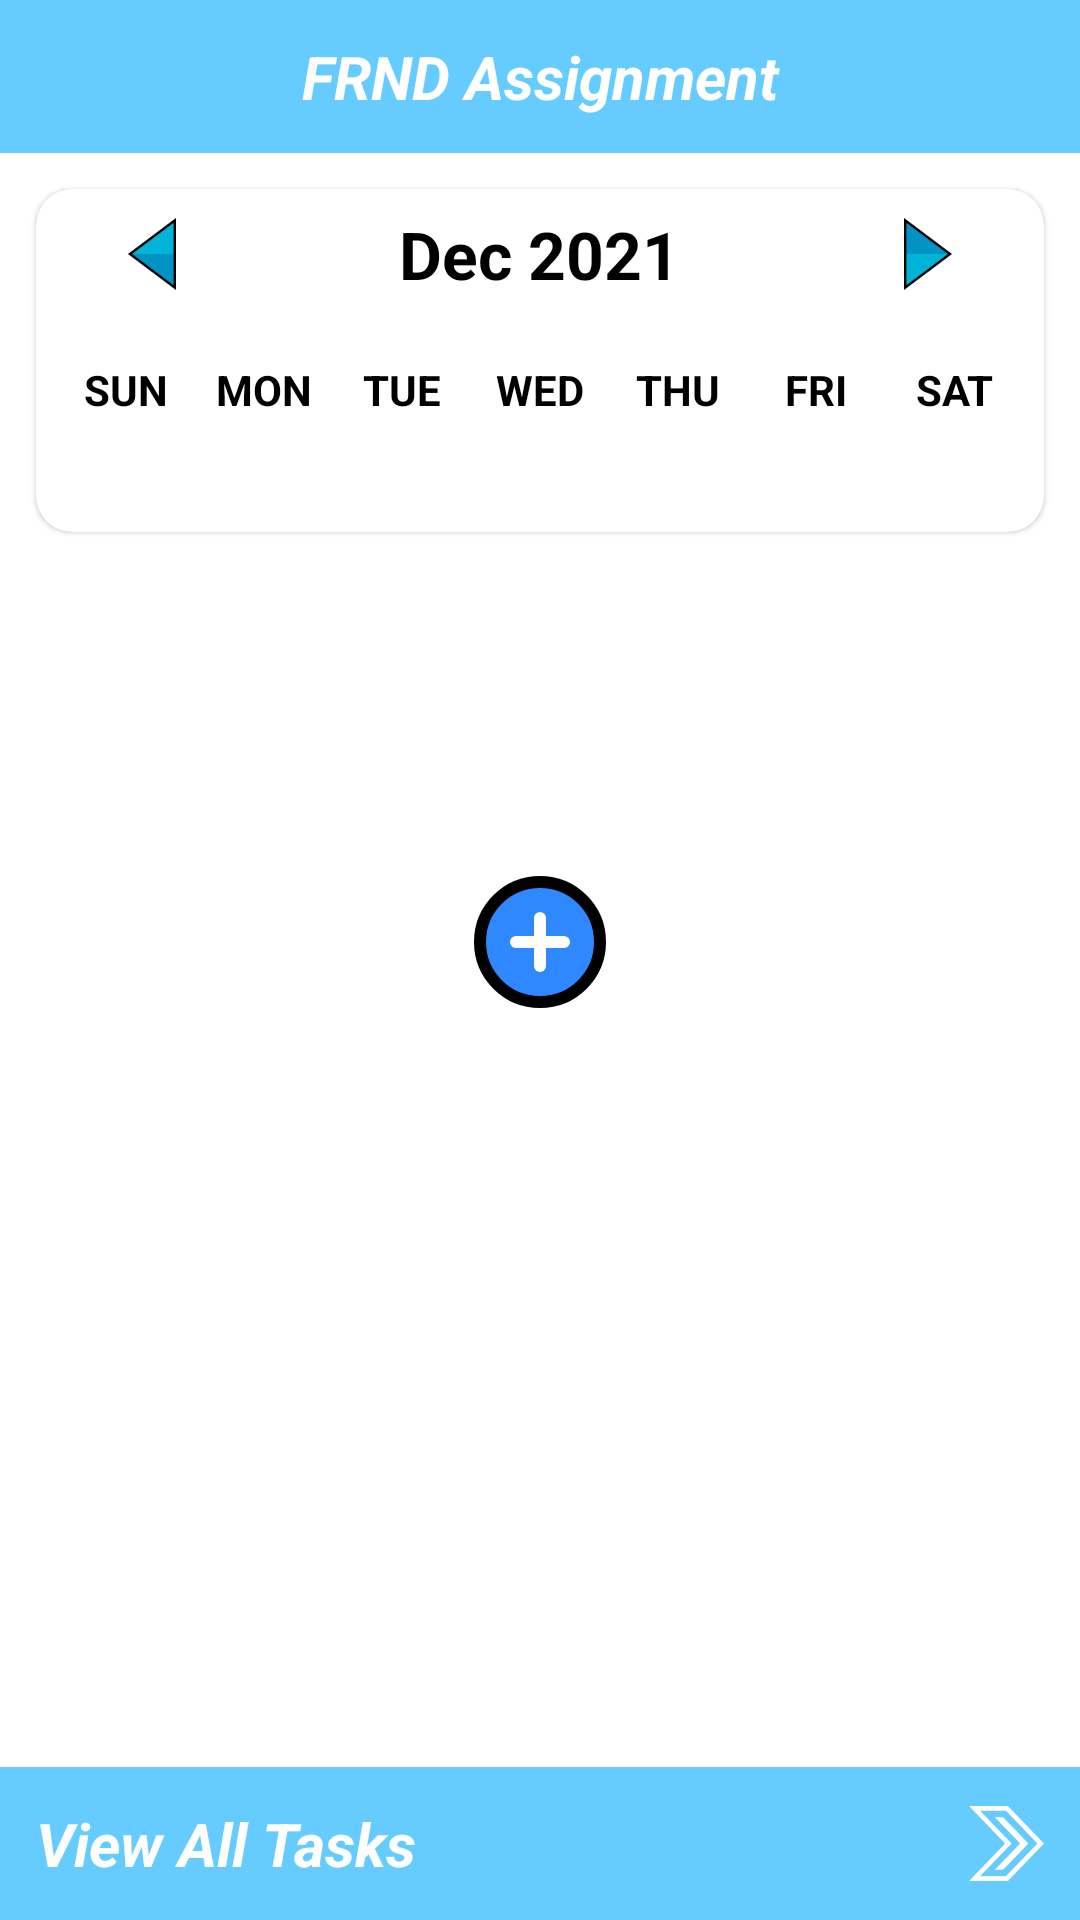

Icon bounding boxes for this 1080*1920 phone screenshot, format (x1, y1, x2, y2):
add: (474, 876, 606, 1008)
left arrow prev: (128, 218, 176, 290)
right arrow next: (904, 218, 952, 290)
